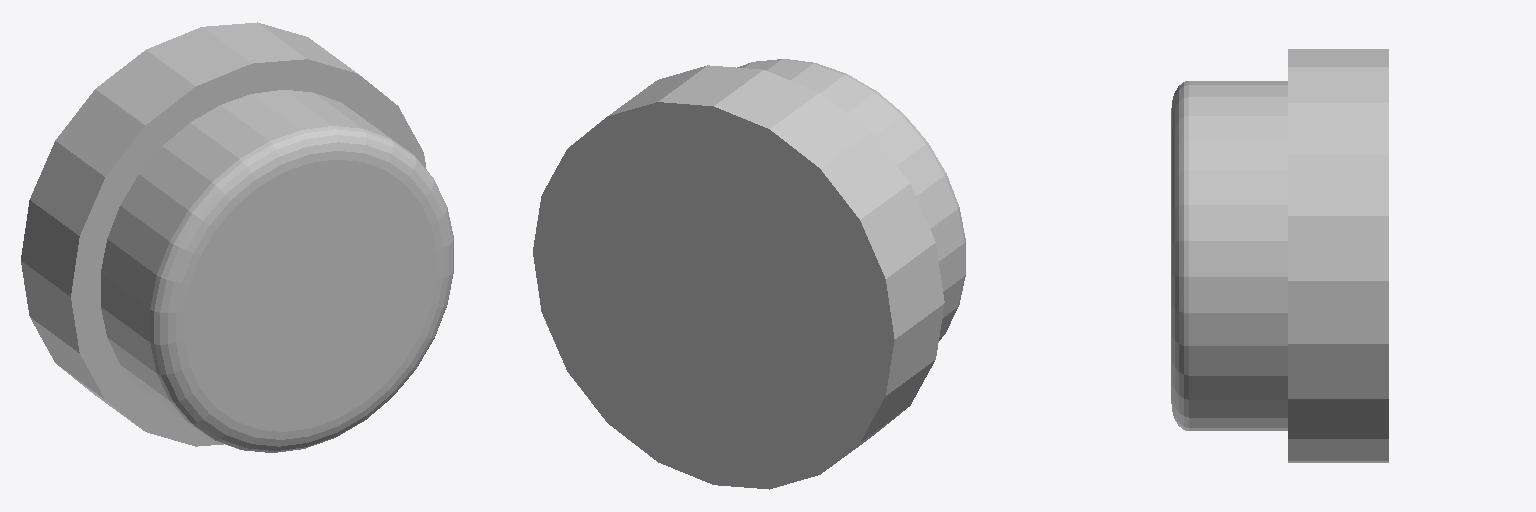
File: btn_green.obj
3 views of the same model, side by side, from view 1: azimuth 30°, elevation 25°; view 2: azimuth 150°, elevation 25°; view 3: azimuth 270°, elevation 25° (orthographic).
Visible parts, largest first — view 1: obj_0; view 2: obj_0; view 3: obj_0.
Boxes of the visible parts, x1,y1,x2,y2 form: obj_0: [21, 22, 453, 452]; obj_0: [533, 59, 965, 489]; obj_0: [1171, 49, 1388, 462].
Bounding box in the file's own units: 25 × 25 × 13.